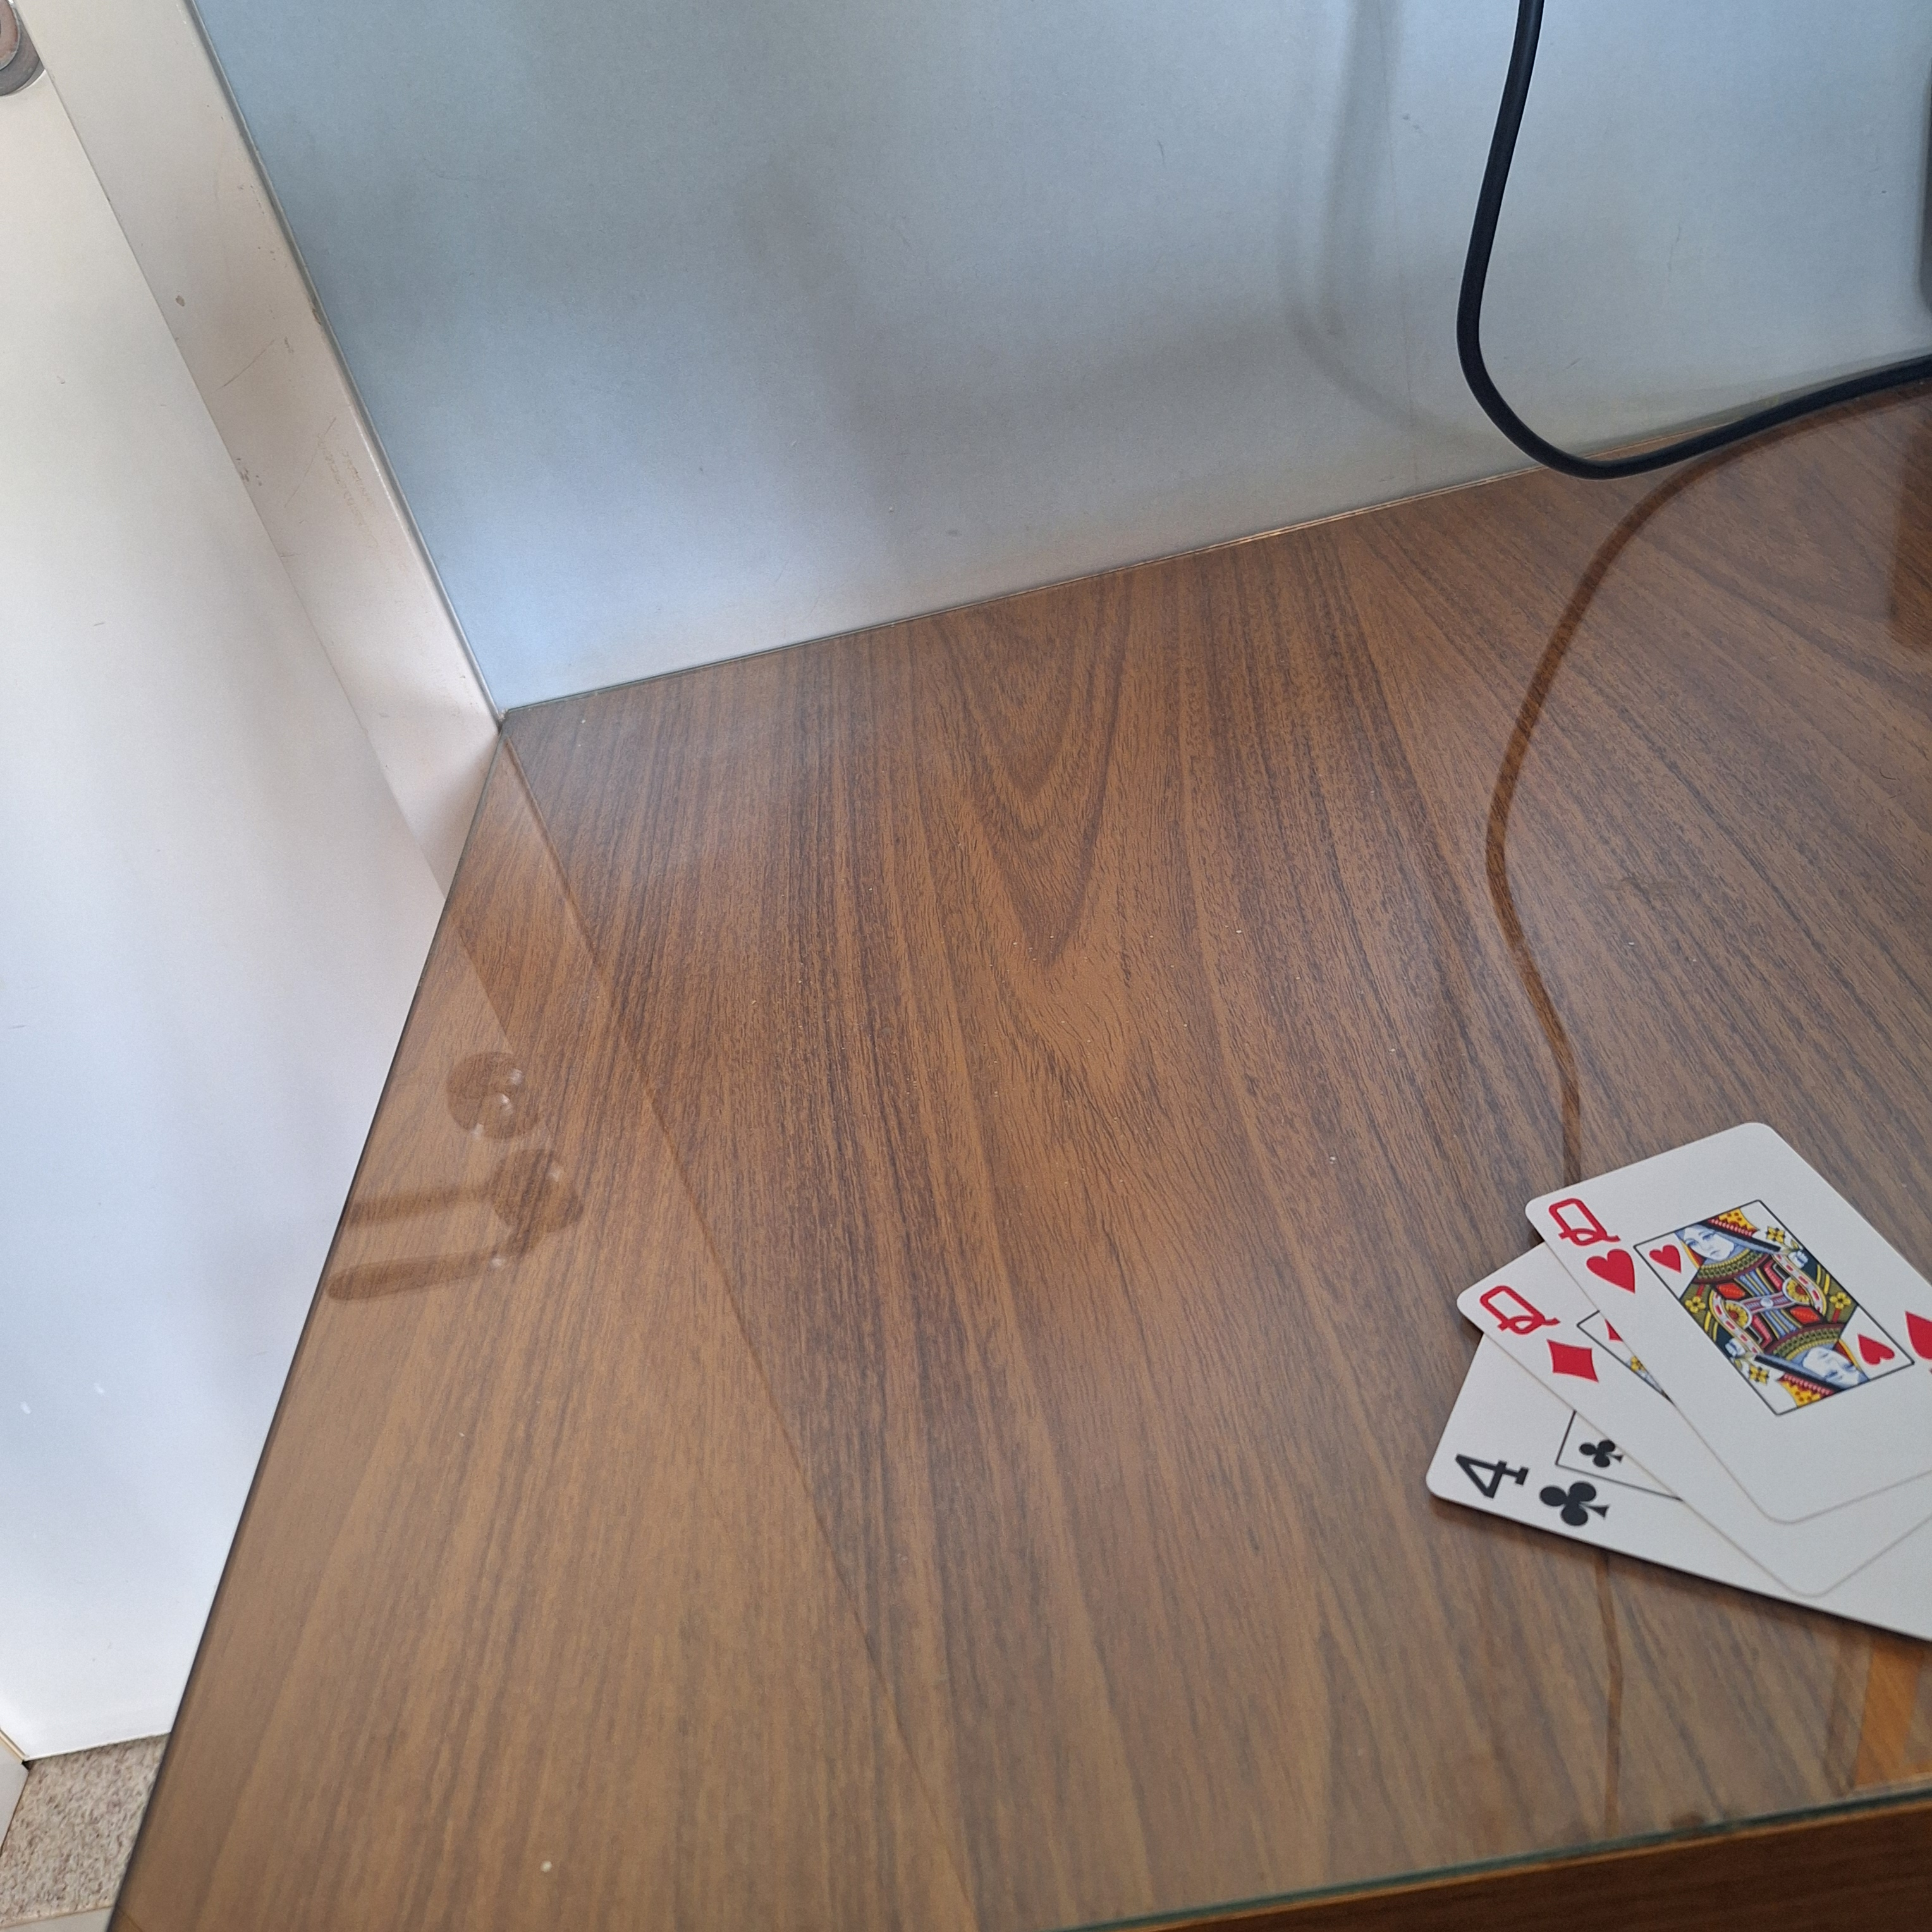4P: (1444, 1445, 1612, 1534)
QC: (1545, 1191, 1645, 1300)
QO: (1476, 1279, 1605, 1385)
